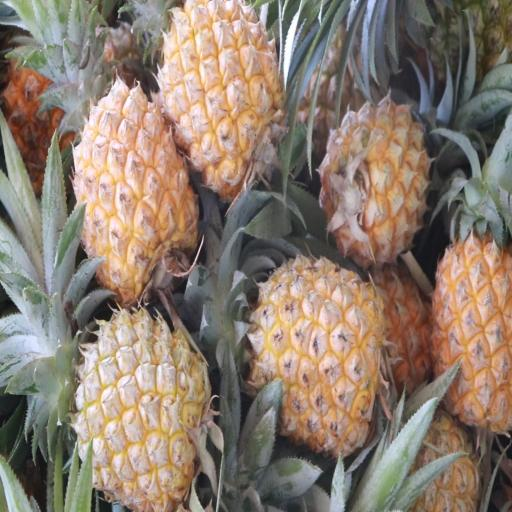Pineapple - v8 v1: (73, 307, 205, 508), (74, 84, 198, 296), (255, 258, 385, 456), (156, 4, 283, 184), (323, 97, 429, 261), (432, 228, 511, 419)
